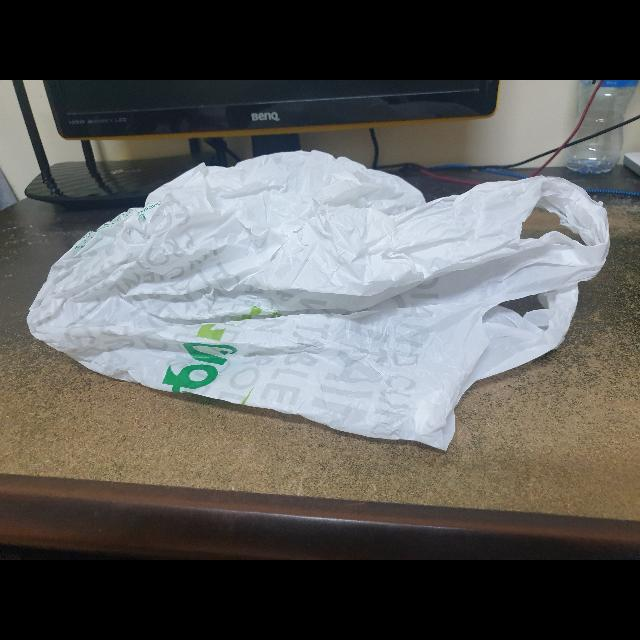plastic_bag: (21, 144, 619, 460)
